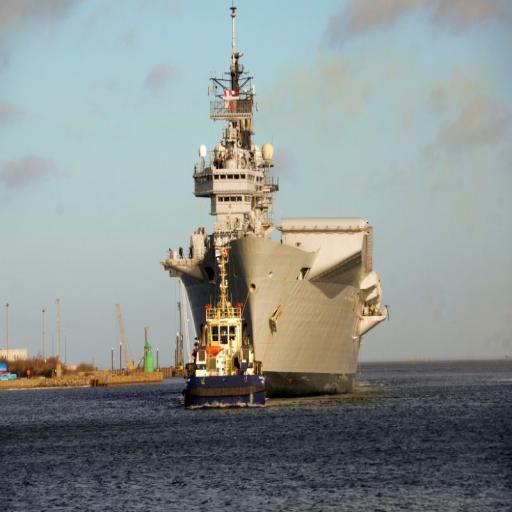Portanaves: (162, 2, 398, 403)
